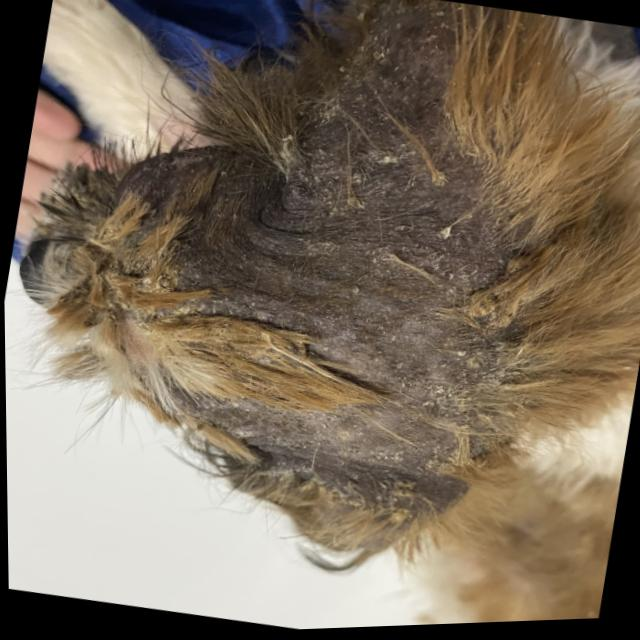demodicosis: (257, 194, 512, 488), (300, 72, 465, 200)
